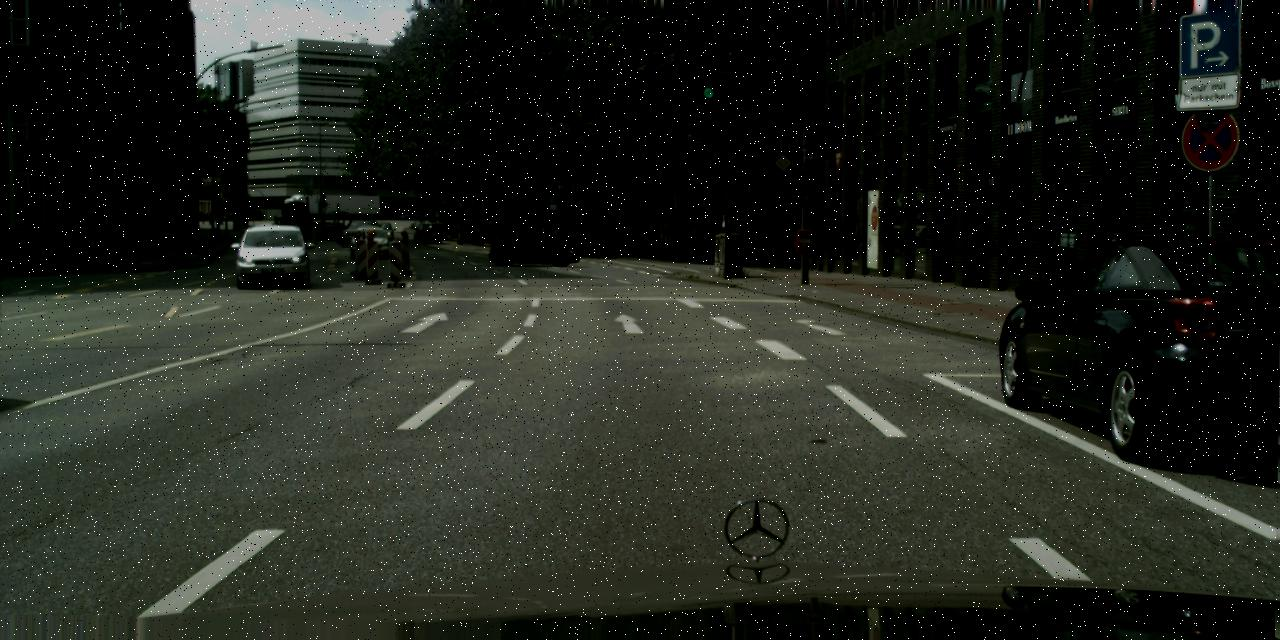ped: (189, 218, 199, 242), (200, 211, 211, 226), (165, 218, 173, 238), (215, 219, 216, 223)
